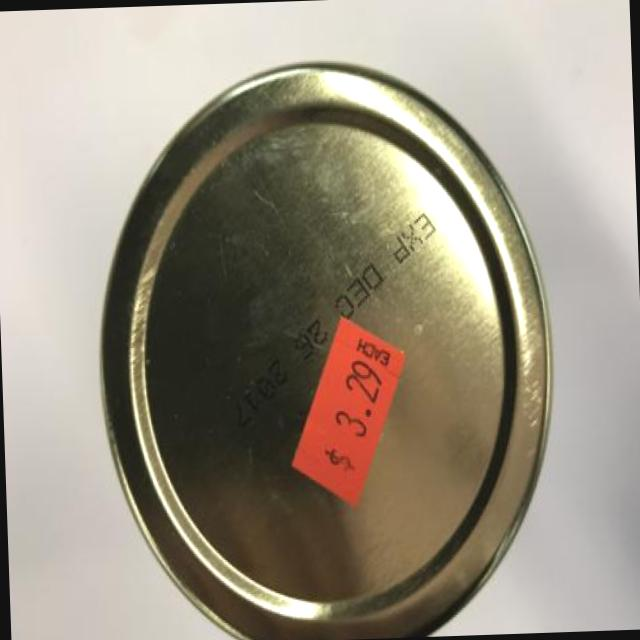nhom: (98, 62, 554, 640)
